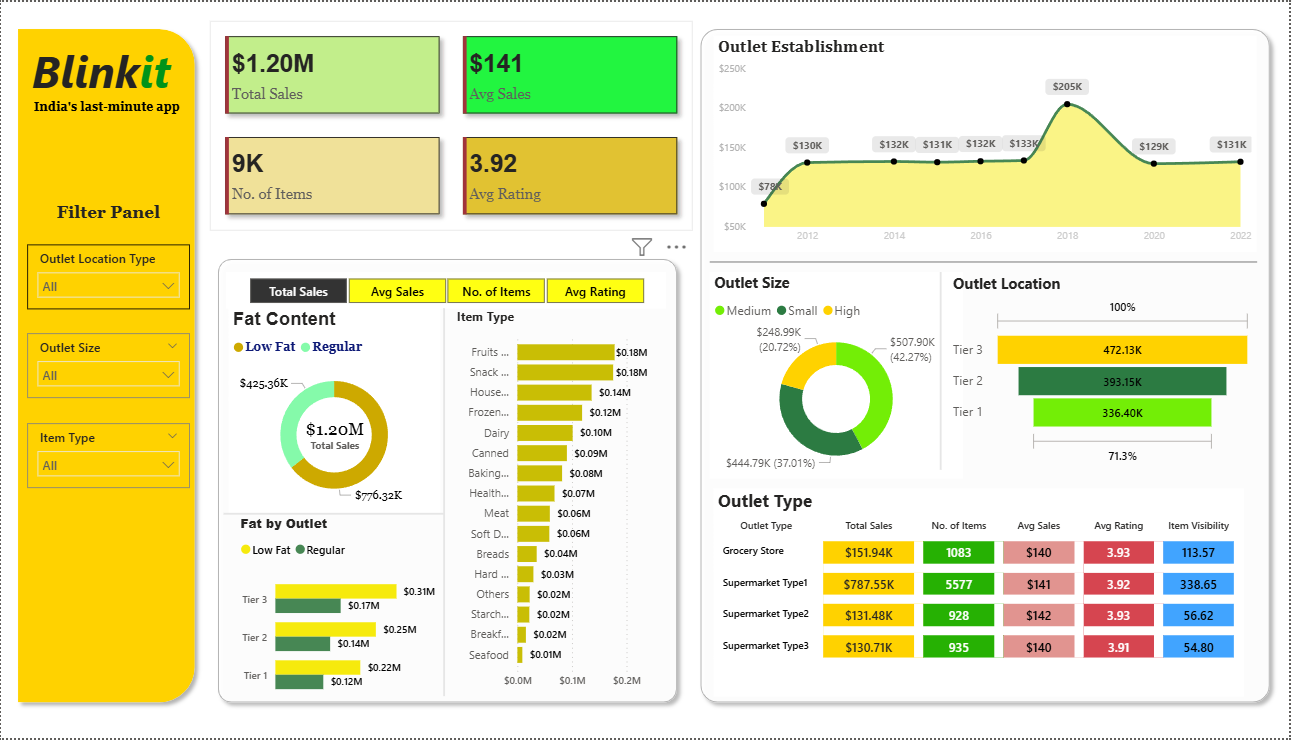

The page's visual inventory and layout, read from the dashboard file:
{"tool":"powerbi","page":{"name":"Page 1","canvas":[1400,800],"ordinal":0},"visuals":[{"type":"shape","box":[10,20,210,750],"z":0},{"type":"textbox","box":[28.5,36,172.6,84],"z":1000},{"type":"textbox","box":[10.5,99.1,208.6,42],"z":2000},{"type":"cardVisual","fields":{"Data":["BlinkIT Grocery Data.Total Sales","BlinkIT Grocery Data.Avg Sales","BlinkIT Grocery Data.No. of Items","BlinkIT Grocery Data.Avg Rating"]},"box":[226.7,20,525,228.3],"z":3000},{"type":"shape","box":[226.7,270,516.7,500],"z":4000},{"type":"donutChart","title":"Fat Content","fields":{"Y":["BlinkIT Grocery Data.Total Sales"],"Category":["BlinkIT Grocery Data.Item Fat Content"]},"box":[246.7,333.3,230,223.3],"z":5000},{"type":"slicer","fields":{"Values":["Metrics.Metrics"]},"box":[245,293.3,478.3,40],"z":6000},{"type":"cardVisual","fields":{"Data":["BlinkIT Grocery Data.Total Sales"]},"box":[313.3,433.3,98.3,75],"z":7000},{"type":"clusteredBarChart","title":"Fat by Outlet","fields":{"Y":["BlinkIT Grocery Data.Total Sales"],"Category":["BlinkIT Grocery Data.Outlet Location Type"],"Series":["BlinkIT Grocery Data.Item Fat Content"]},"box":[255,556.7,221.7,213.3],"z":8000},{"type":"shape","box":[241.7,541.7,240,28.3],"z":9000},{"type":"shape","box":[463.3,333.3,36.7,421.7],"z":10000},{"type":"barChart","title":"Item Type","fields":{"Y":["BlinkIT Grocery Data.Total Sales"],"Category":["BlinkIT Grocery Data.Item Type"]},"box":[490,333.3,233.3,421.7],"z":11000},{"type":"shape","box":[751.7,20,636.7,750],"z":12000},{"type":"lineChart","title":"Outlet Establishment","fields":{"Y":["BlinkIT Grocery Data.Total Sales"],"Category":["BlinkIT Grocery Data.Outlet Establishment Year"]},"box":[775,36.7,590,235],"z":13000},{"type":"shape","box":[770,271.7,595,21.7],"z":14000},{"type":"donutChart","title":"Outlet Size","fields":{"Category":["BlinkIT Grocery Data.Outlet Size"],"Y":["BlinkIT Grocery Data.Total Sales"]},"box":[770,293.3,275,225],"z":15000},{"type":"shape","box":[1011.7,293.3,18.3,215],"z":16000},{"type":"funnel","title":"Outlet Location ","fields":{"Y":["Sum(BlinkIT Grocery Data.Sales)"],"Category":["BlinkIT Grocery Data.Outlet Location Type"]},"box":[1030,295,335,213.3],"z":17000},{"type":"pivotTable","title":"Outlet Type","fields":{"Rows":["BlinkIT Grocery Data.Outlet Type"],"Values":["BlinkIT Grocery Data.Total Sales","BlinkIT Grocery Data.No. of Items","BlinkIT Grocery Data.Avg Sales","BlinkIT Grocery Data.Avg Rating","Sum(BlinkIT Grocery Data.Item Visibility)"]},"box":[775,528.3,576.7,226.7],"z":18000},{"type":"slicer","fields":{"Values":["BlinkIT Grocery Data.Outlet Location Type"]},"box":[28.3,263.3,176.7,70],"z":19000},{"type":"slicer","fields":{"Values":["BlinkIT Grocery Data.Outlet Size"]},"box":[28.3,360,176.7,70],"z":20000},{"type":"slicer","fields":{"Values":["BlinkIT Grocery Data.Item Type"]},"box":[28.3,458.3,176.7,70],"z":21000},{"type":"textbox","box":[43.3,213.3,146.7,35],"z":22000}]}

Visuals, with their boxes in screenshot pixels (x1, y1, x2, y2), scaled from the page's 1400x800 canvas onto the 1292x741 screenshot:
shape: x1=9 y1=19 x2=203 y2=713
textbox: x1=26 y1=33 x2=186 y2=111
textbox: x1=10 y1=92 x2=202 y2=131
cardVisual - BlinkIT Grocery Data.Total Sales x BlinkIT Grocery Data.Avg Sales: x1=209 y1=19 x2=694 y2=230
shape: x1=209 y1=250 x2=686 y2=713
"Fat Content" donutChart: x1=228 y1=309 x2=440 y2=516
slicer - Metrics.Metrics: x1=226 y1=272 x2=668 y2=309
cardVisual - BlinkIT Grocery Data.Total Sales: x1=289 y1=401 x2=380 y2=471
"Fat by Outlet" clusteredBarChart: x1=235 y1=516 x2=440 y2=713
shape: x1=223 y1=502 x2=445 y2=528
shape: x1=428 y1=309 x2=461 y2=699
"Item Type" barChart: x1=452 y1=309 x2=668 y2=699
shape: x1=694 y1=19 x2=1281 y2=713
"Outlet Establishment" lineChart: x1=715 y1=34 x2=1260 y2=252
shape: x1=711 y1=252 x2=1260 y2=272
"Outlet Size" donutChart: x1=711 y1=272 x2=964 y2=480
shape: x1=934 y1=272 x2=951 y2=471
"Outlet Location " funnel: x1=951 y1=273 x2=1260 y2=471
"Outlet Type" pivotTable: x1=715 y1=489 x2=1247 y2=699
slicer - BlinkIT Grocery Data.Outlet Location Type: x1=26 y1=244 x2=189 y2=309
slicer - BlinkIT Grocery Data.Outlet Size: x1=26 y1=333 x2=189 y2=398
slicer - BlinkIT Grocery Data.Item Type: x1=26 y1=425 x2=189 y2=489
textbox: x1=40 y1=198 x2=175 y2=230
